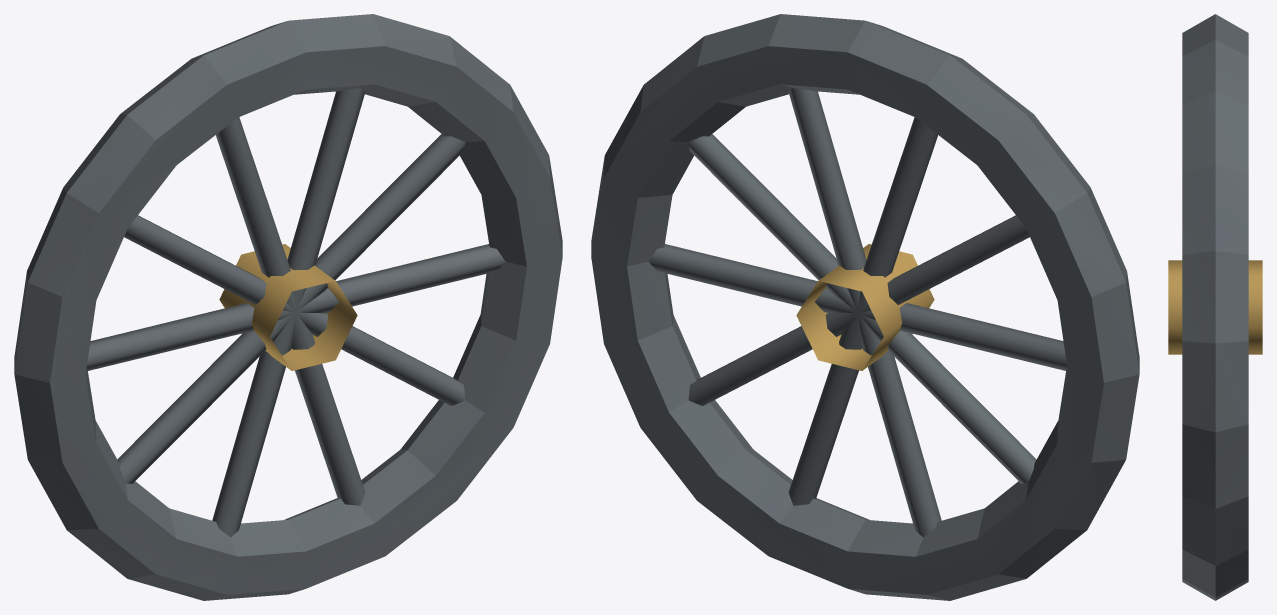
File: train-wheel.glb
3 views of the same model, side by side, from view 1: azimuth 30°, elevation 25°; view 2: azimuth 150°, elevation 25°; view 3: azimuth 270°, elevation 25° (orthographic). The views are drawn at different scales.
Parts seen in each view (by area): view 1: wheel rim, wheel hub; view 2: wheel rim, wheel hub; view 3: wheel rim, wheel hub.
Part boxes in pixels (left/top/right/bottom): wheel rim: left=14, top=14, right=562, bottom=600; wheel hub: left=219, top=244, right=357, bottom=370; wheel rim: left=591, top=14, right=1139, bottom=600; wheel hub: left=796, top=244, right=934, bottom=370; wheel rim: left=1182, top=14, right=1248, bottom=600; wheel hub: left=1168, top=260, right=1262, bottom=354.
Size of the model in its own units: 2 by 2 by 0.32.
